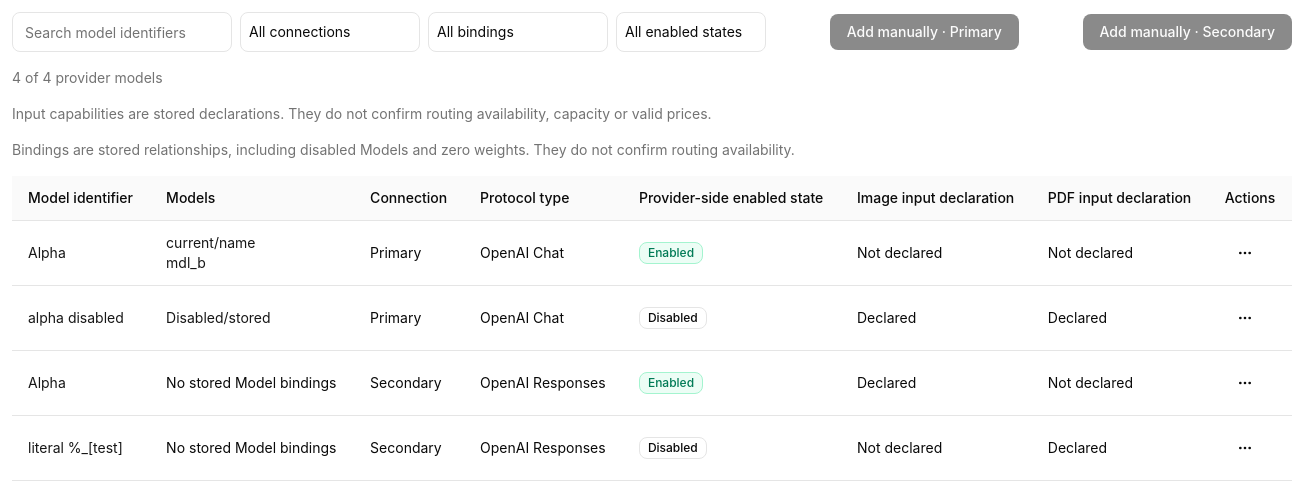
it: keeps details available with read-only authority and exposes only scoped bound Model actions
What coordinates should you click on to do the following:
click the button named "More actions for Alpha" in the row of "current/name"
I would click on:
 (1245, 253)
Its box is [1225,233,1265,273].
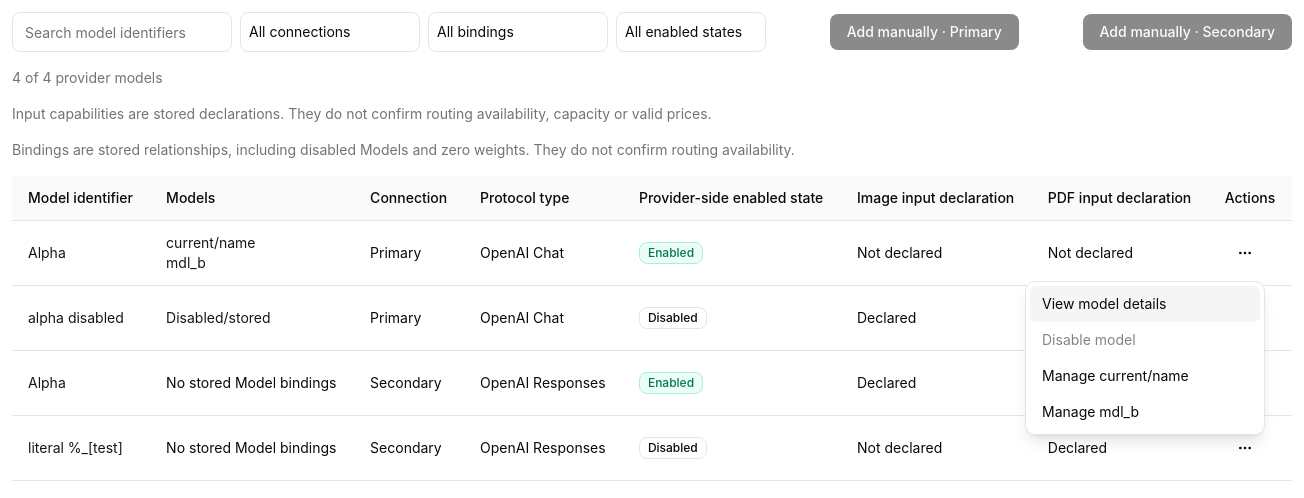
Result: the menu item "View model details" is shown at [1030,286,1260,322]
Result: the menu item "Manage current/name" is shown at [1042,367,1189,384]
Result: the menu item "Manage mdl_b" is shown at [1042,403,1139,420]
